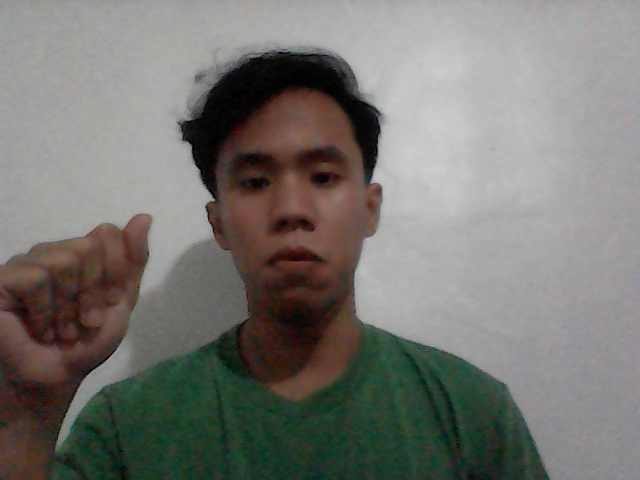A: (1, 192, 166, 410)
